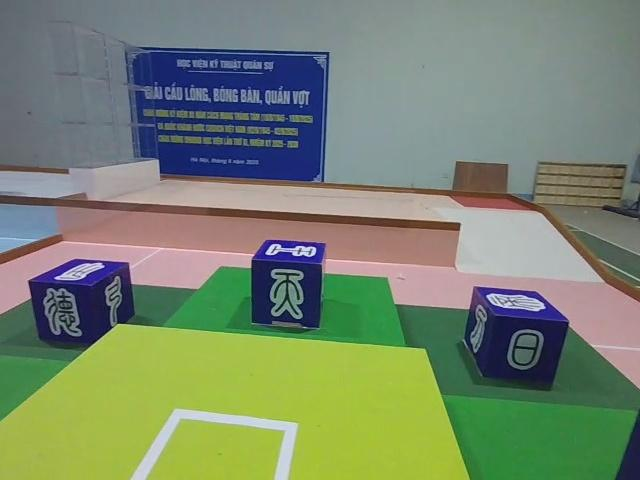R2 Fake Blue: (463, 287, 568, 391), (28, 258, 134, 348), (251, 239, 328, 331)
